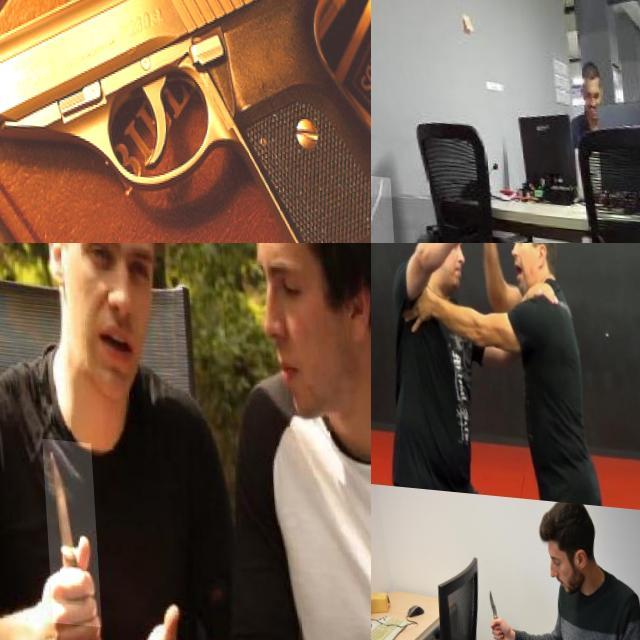-: (38, 436, 96, 624), (371, 166, 401, 243), (458, 243, 518, 266), (371, 318, 397, 364), (481, 578, 500, 640), (371, 621, 392, 640)
gun-knife-thesis - v11 Yolov5 augmented: (0, 0, 371, 243)
